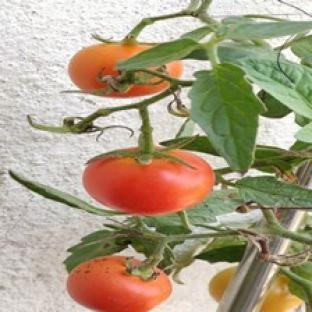Tomato: (83, 150, 214, 214), (67, 257, 171, 311), (69, 44, 151, 91), (260, 275, 302, 311)
